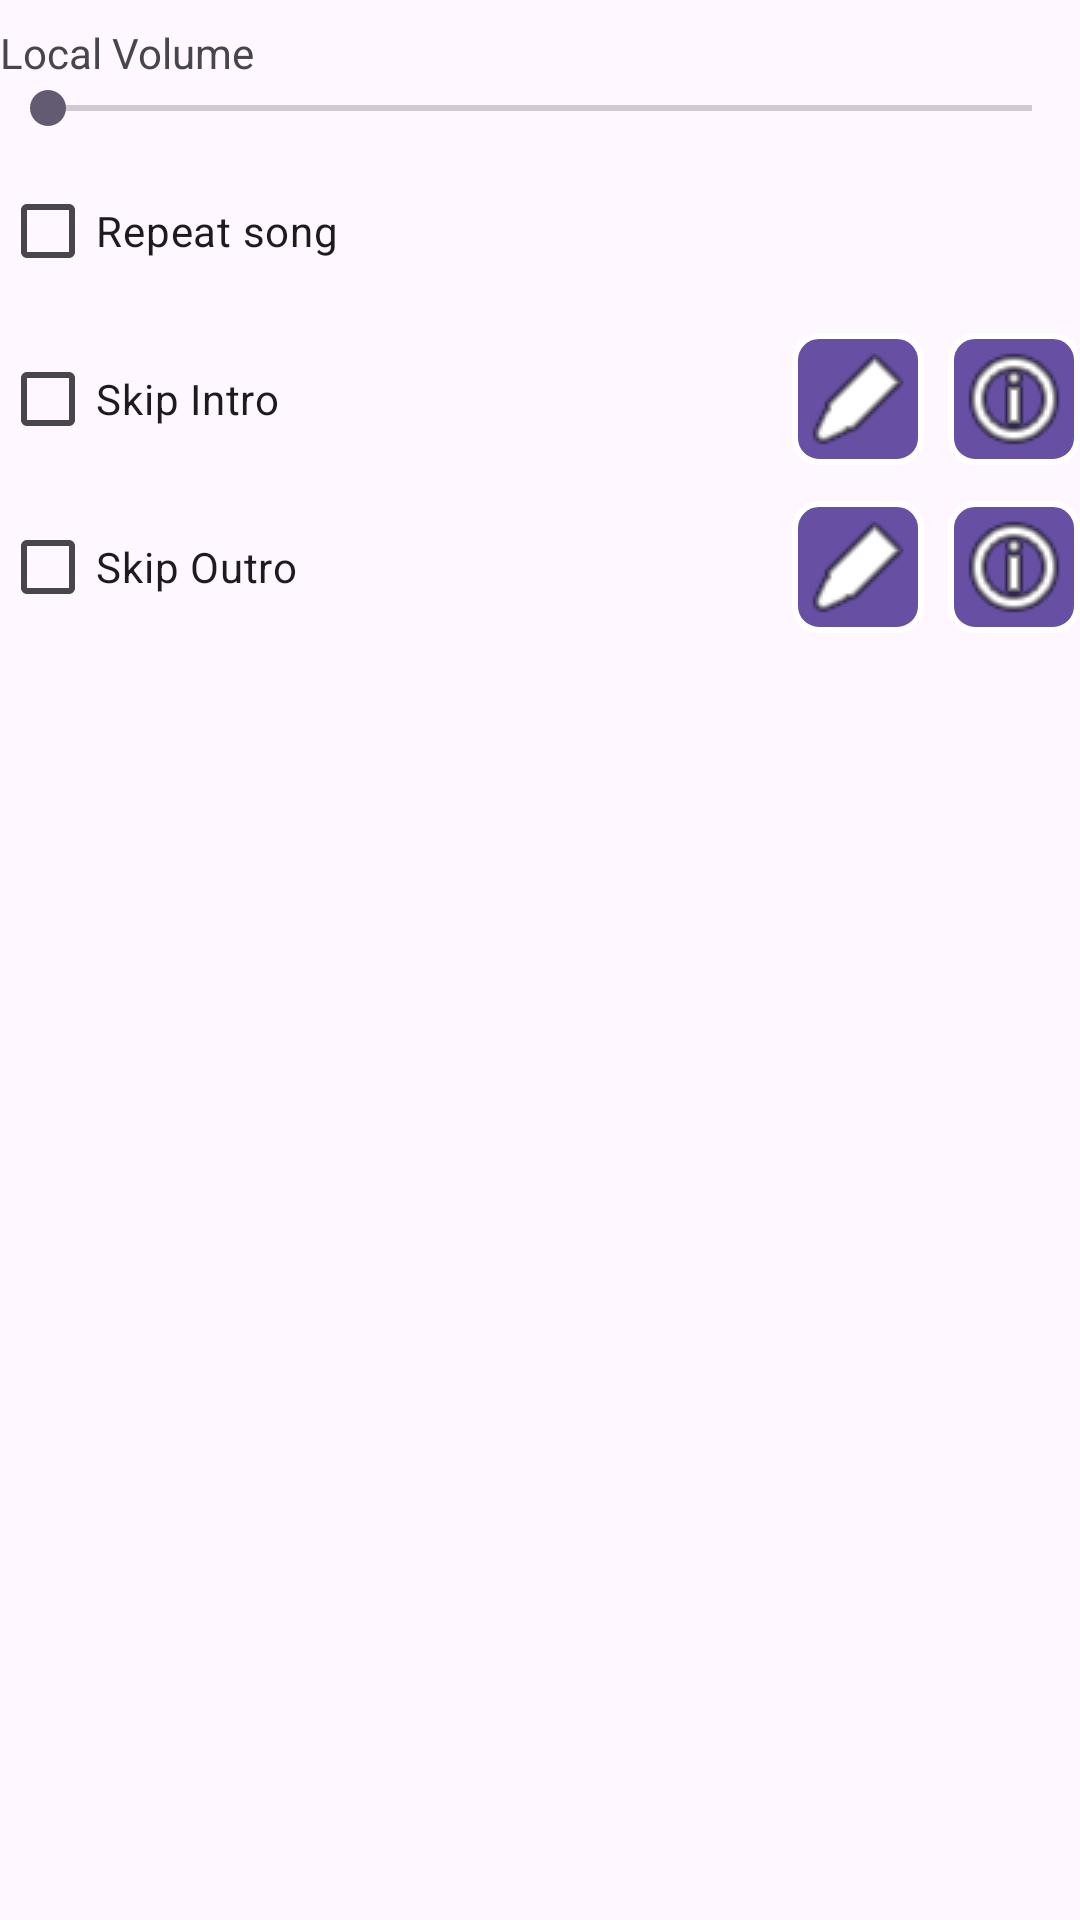

Where icons sit on this 1080w x 1920h app screen, as [x1, y1, x2, y2]:
info: [954, 339, 1074, 459], [954, 507, 1074, 627]
pen: [798, 339, 918, 459], [798, 507, 918, 627]
